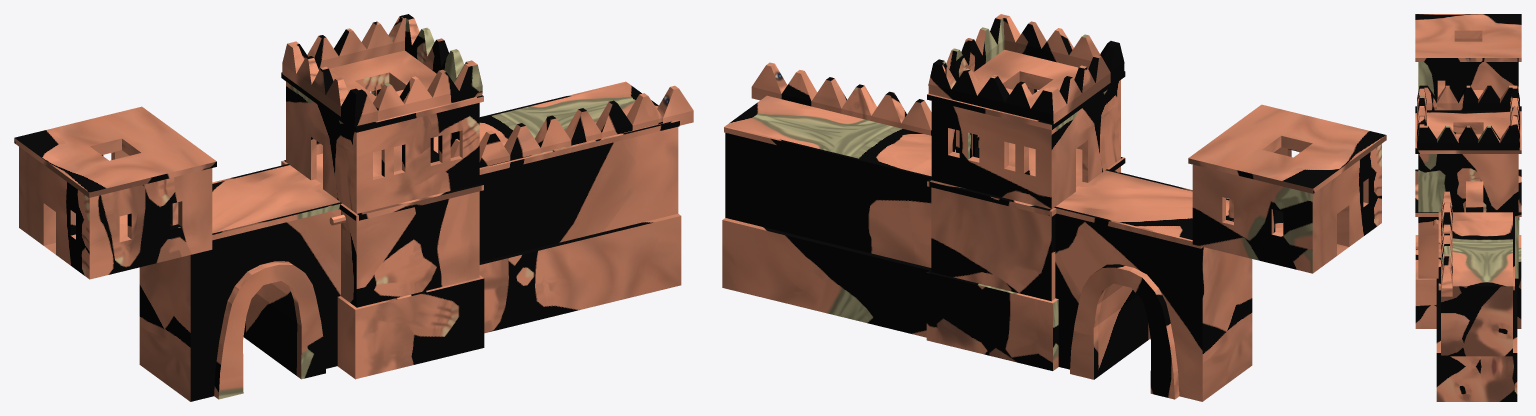
Rendered from CityHouses_Mesh.fbx.
3 views of the same model, side by side, from view 1: azimuth 30°, elevation 25°; view 2: azimuth 150°, elevation 25°; view 3: azimuth 270°, elevation 25° (orthographic). The views are drawn at different scales.
Visible parts, largest first — view 1: Gate_01.000, Tower_Top_01, Rampart_Top_01, Tower_Top_02, Rampart_Bottom_01, Tower_Midst_01, Merlons_02, Tower_Bottom_01, Merlons_04; view 2: Gate_01.000, Rampart_Top_01, Tower_Top_01, Tower_Top_02, Rampart_Bottom_01, Tower_Midst_01, Merlons_02, Tower_Bottom_01, Merlons_04; view 3: Rampart_Top_01, Tower_Top_02, Tower_Top_01, Merlons_02, Rampart_Bottom_01, Tower_Midst_01, Tower_Bottom_01, Merlons_04.
Part boxes in pixels (x1,y1,x2,y2): Gate_01.000: [139, 164, 341, 401]; Tower_Top_01: [14, 106, 216, 279]; Rampart_Top_01: [433, 81, 679, 261]; Tower_Top_02: [281, 50, 483, 213]; Rampart_Bottom_01: [479, 213, 681, 333]; Tower_Midst_01: [281, 151, 483, 307]; Merlons_02: [282, 14, 482, 126]; Tower_Bottom_01: [337, 275, 484, 379]; Merlons_04: [450, 85, 693, 167]; Gate_01.000: [1054, 169, 1252, 401]; Rampart_Top_01: [724, 95, 931, 267]; Tower_Top_01: [1188, 104, 1386, 273]; Tower_Top_02: [927, 49, 1125, 209]; Rampart_Bottom_01: [722, 218, 931, 337]; Tower_Midst_01: [927, 157, 1125, 301]; Merlons_02: [928, 14, 1124, 124]; Tower_Bottom_01: [926, 270, 1058, 370]; Merlons_04: [751, 62, 979, 147]; Rampart_Top_01: [1438, 212, 1514, 356]; Tower_Top_02: [1415, 106, 1521, 212]; Tower_Top_01: [1415, 14, 1521, 98]; Merlons_02: [1417, 85, 1519, 150]; Rampart_Bottom_01: [1436, 278, 1517, 401]; Tower_Midst_01: [1415, 169, 1521, 278]; Tower_Bottom_01: [1415, 235, 1521, 328]; Merlons_04: [1441, 191, 1452, 296].
Bounding box in the file's own units: 10.15 × 4.39 × 2.12.
